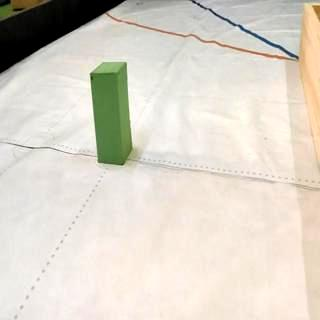greenbox: (90, 63, 134, 164)
